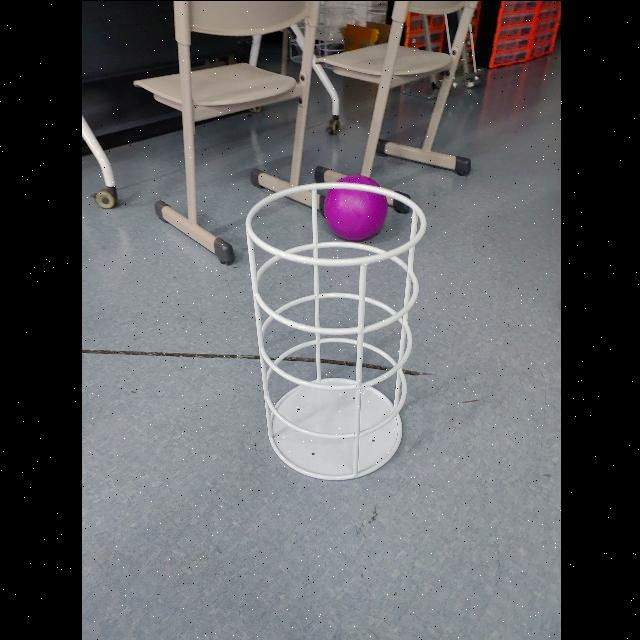S: (240, 177, 430, 486)
